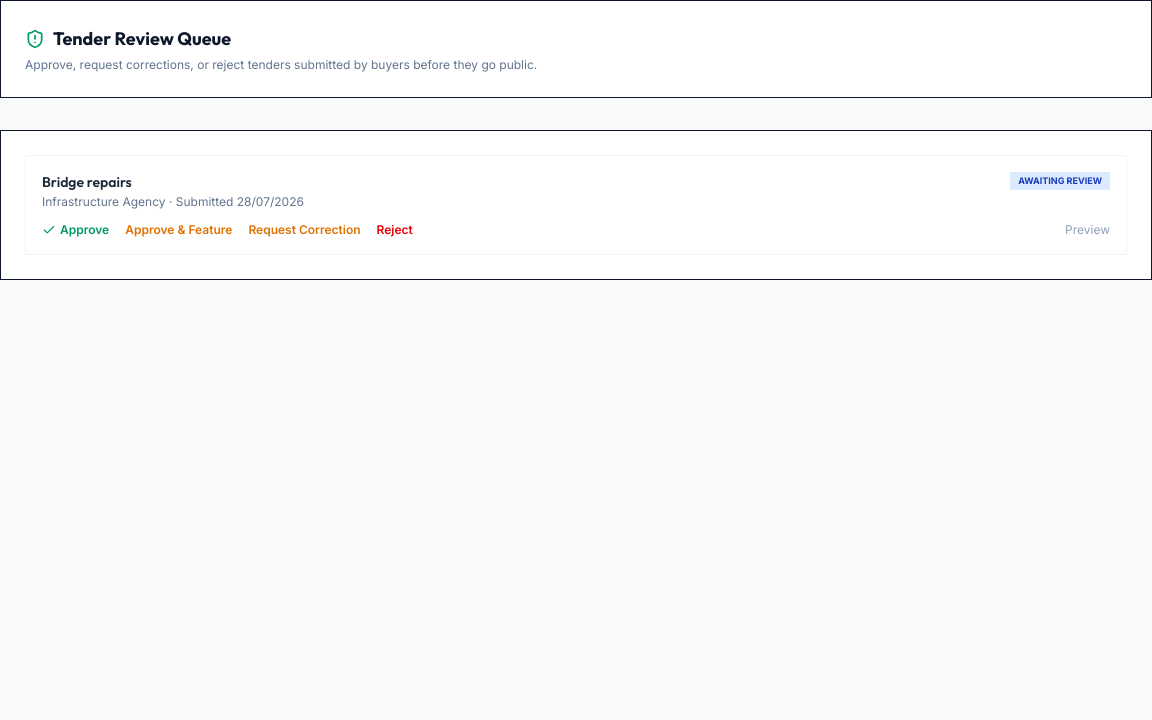
Test: AdminTenderReviewWorkspace › sends a correction request from the branded review dialog
Expected: the heading "Bridge repairs" is shown, [42,173,132,191]
Step 1. Click the button "Request Correction" → click(304, 230), box [248,222,361,238]
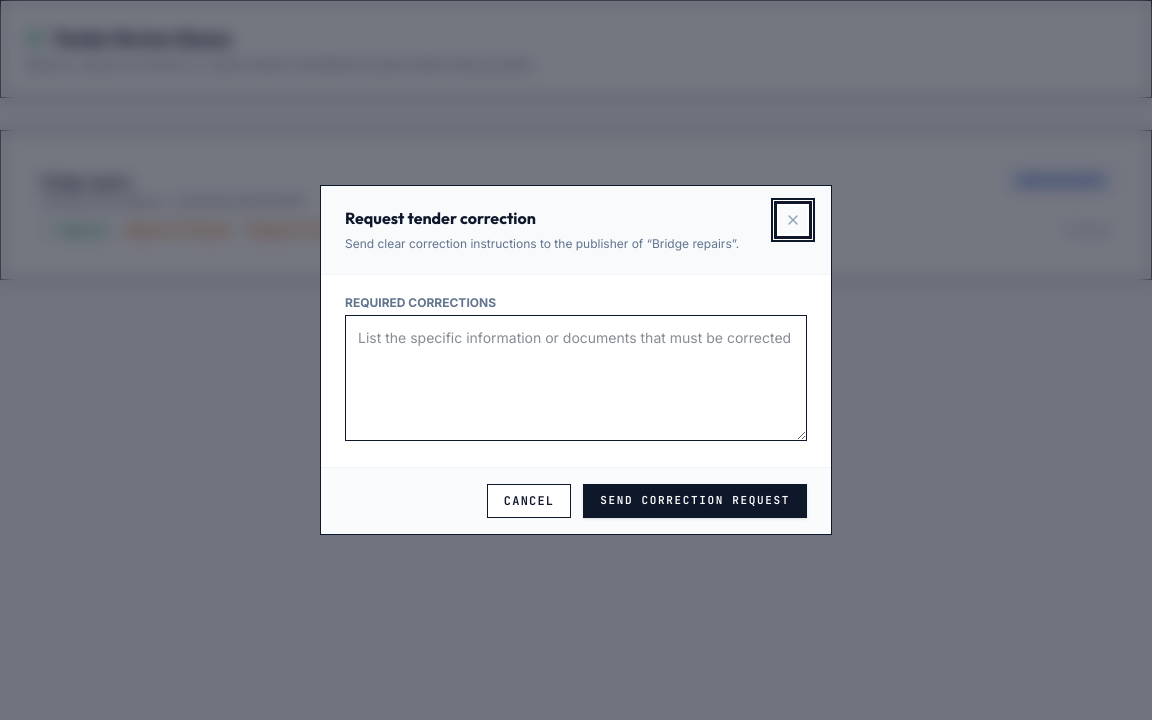
Step 2. Type "Attach the signed bidding notice." into the text box labelled "Required corrections" → (576, 378), box [345,315,807,441]
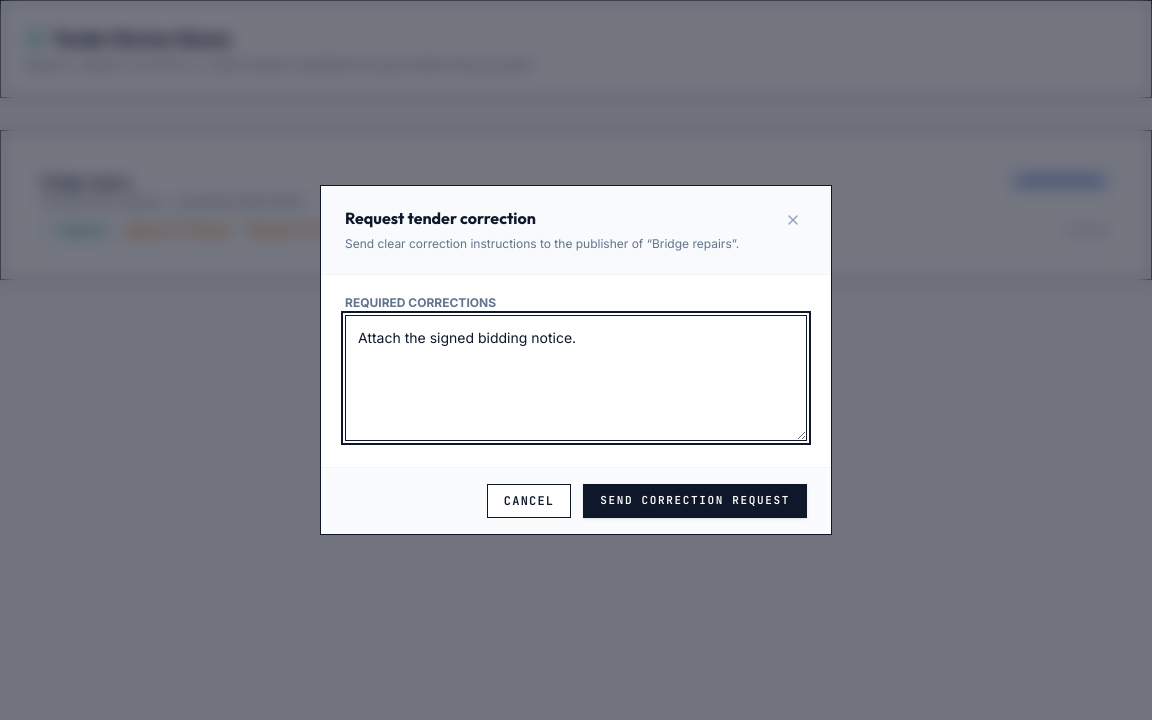
Step 3. Click the button "Send correction request" → click(695, 501), box [583,484,807,518]
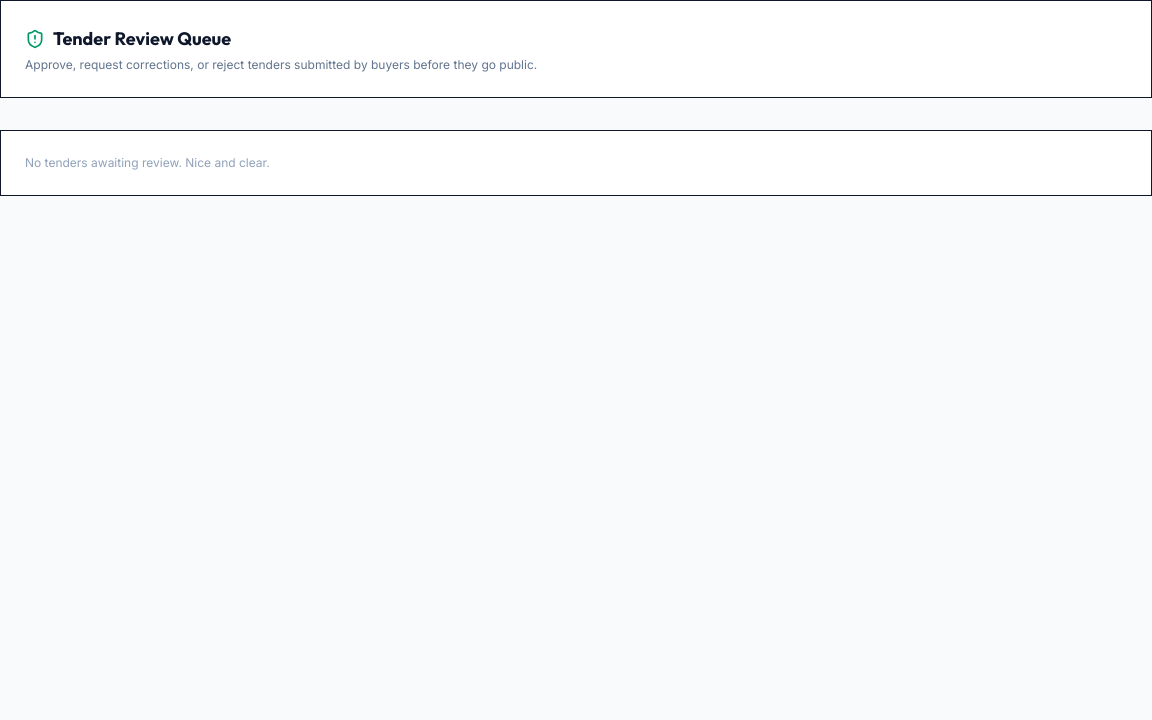
Result: the heading "Bridge repairs" is gone
